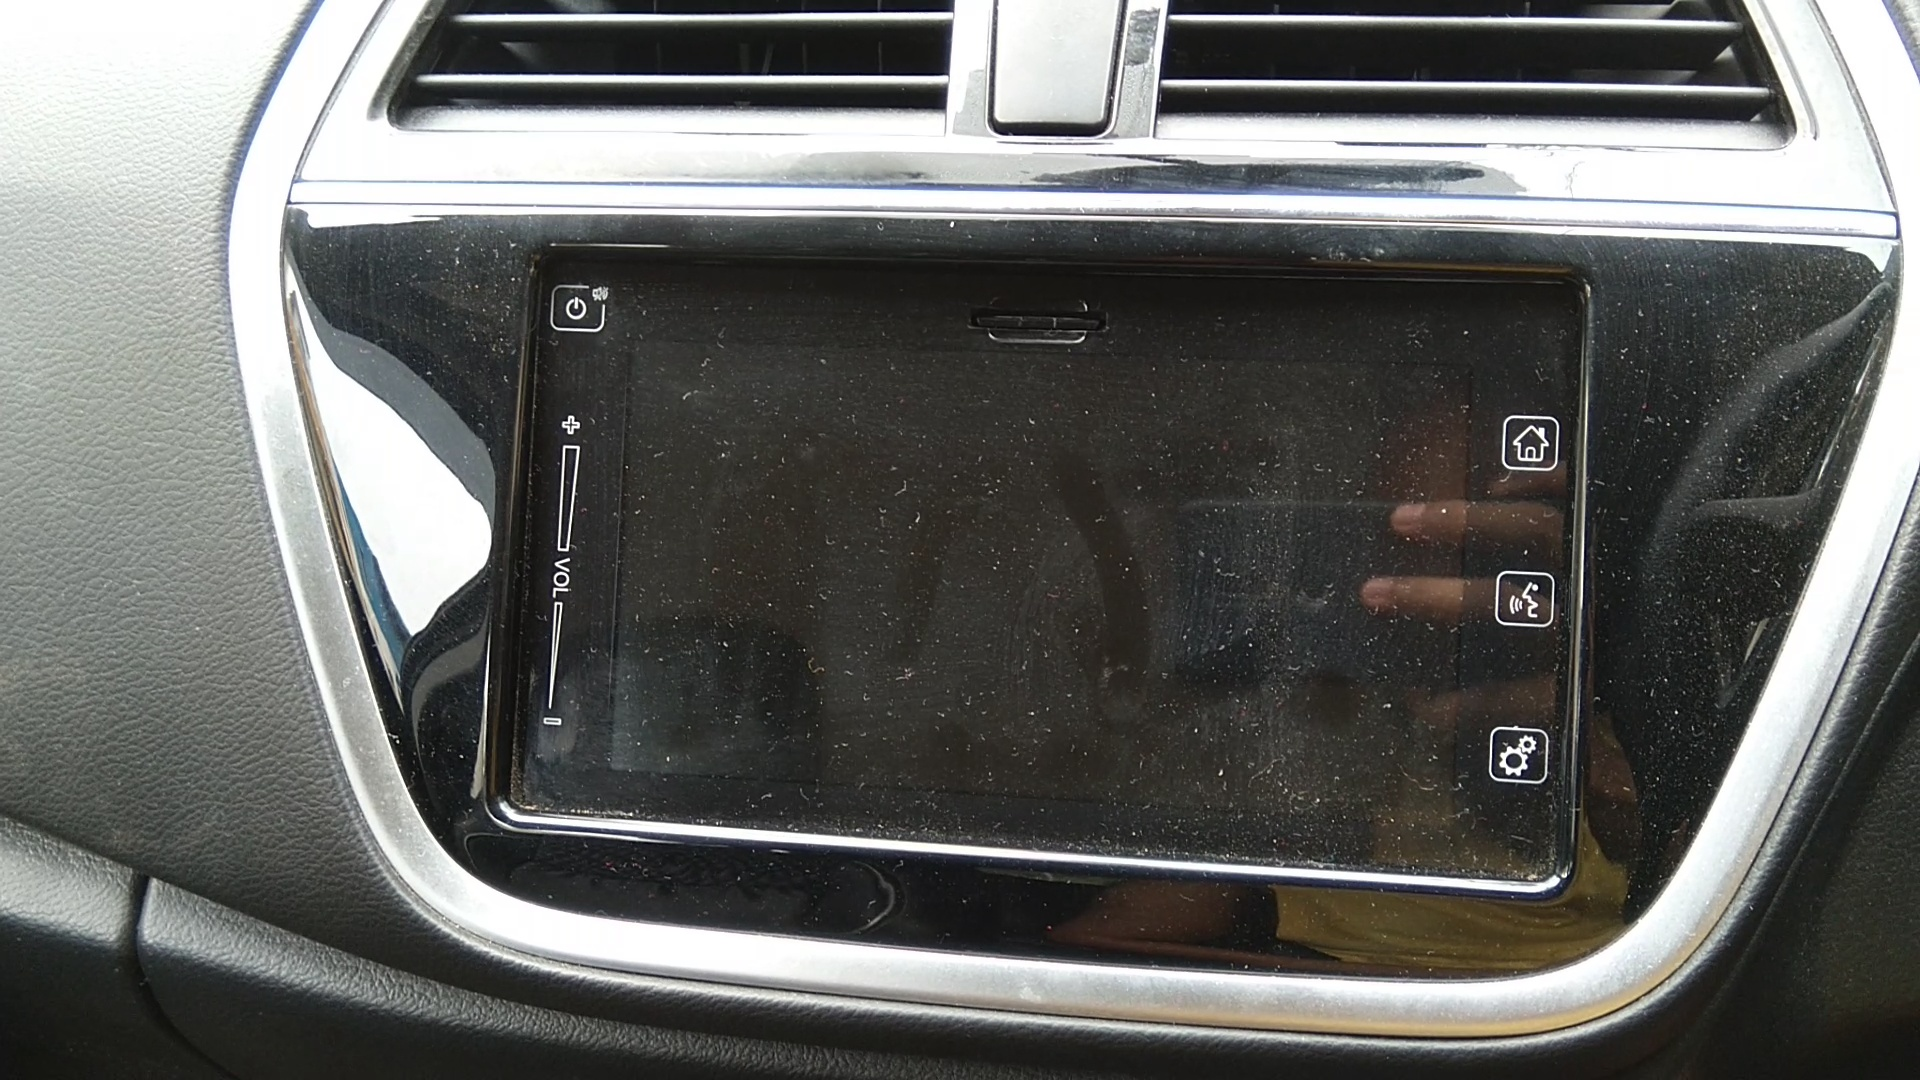touch_infotainment: (465, 229, 1636, 840)
